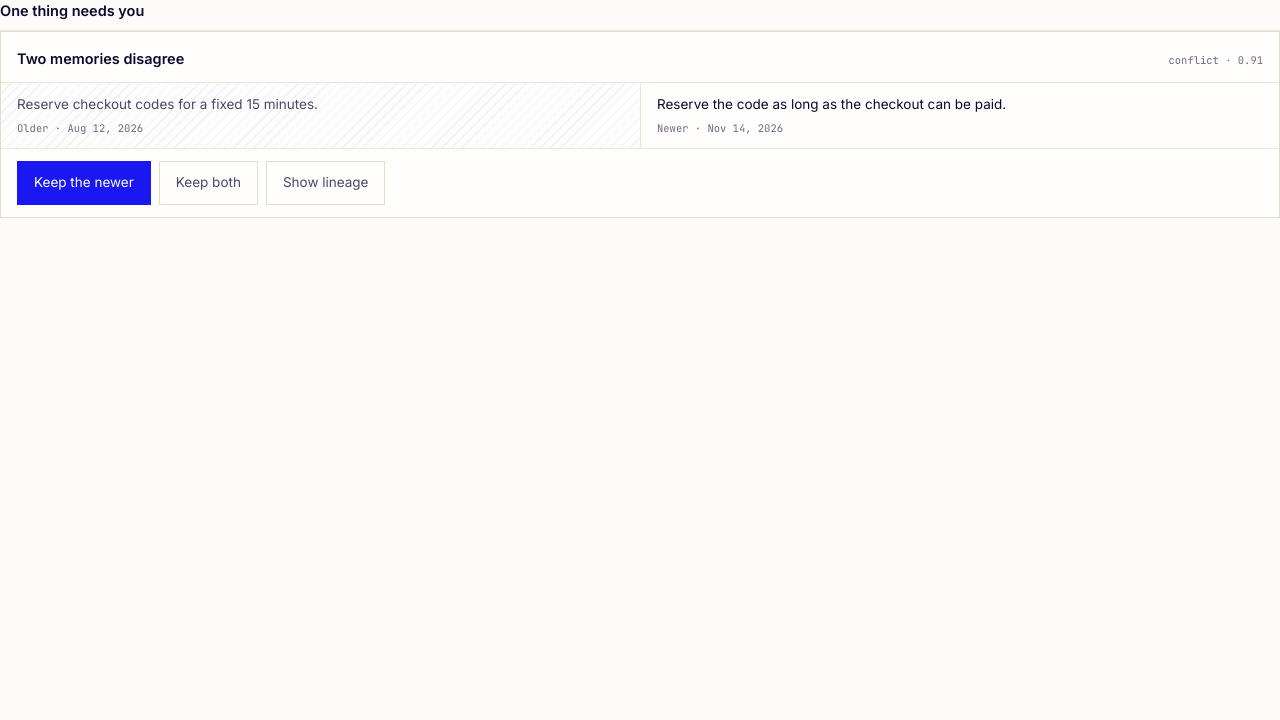
APP-044 a resolution posts nothing until it is confirmed, and the dialog says it cannot be undone
The width and height of the screenshot is (1280, 720).
Click the button "Keep the newer" at coordinates (84, 182), box [17,160,151,204]
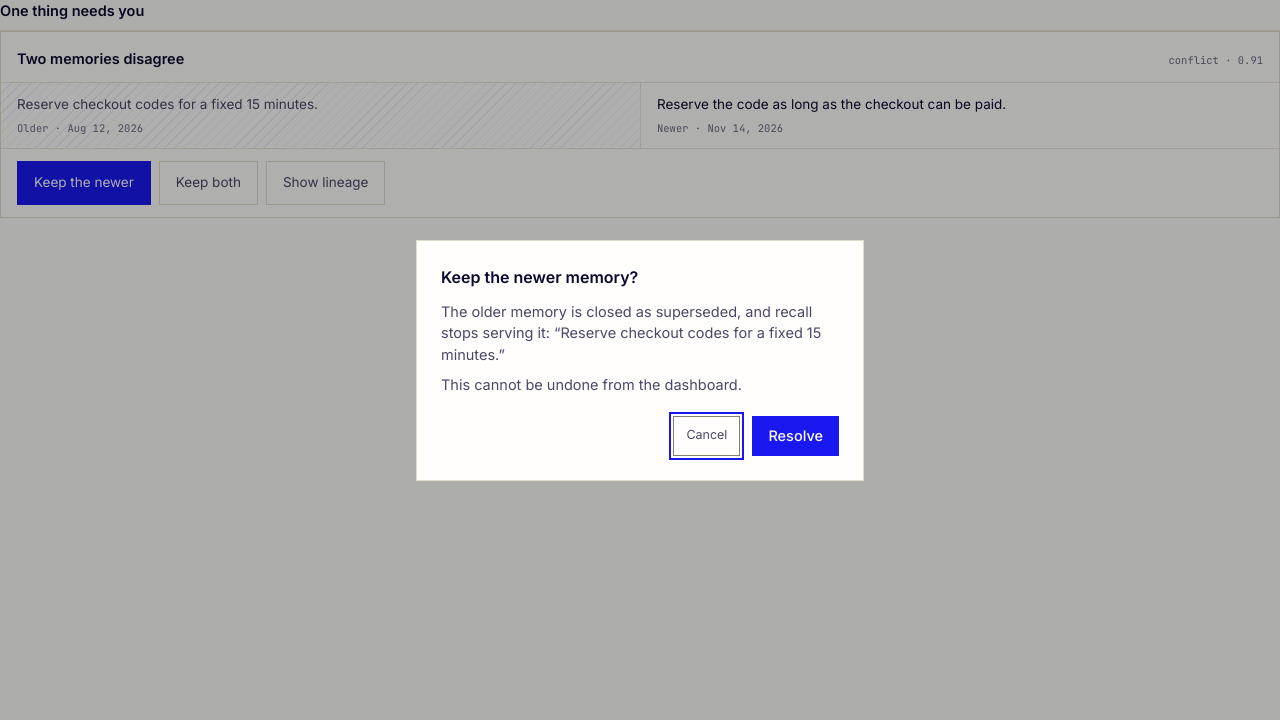
expect the dialog "Keep the newer memory?" shows "Reserve checkout codes for a fixed 15 minutes.": met, box [441,302,821,363]
expect the dialog "Keep the newer memory?" shows "cannot be undone": met, box [441,376,742,393]
Click the button "Cancel" at coordinates (707, 436), box [673,416,740,456]
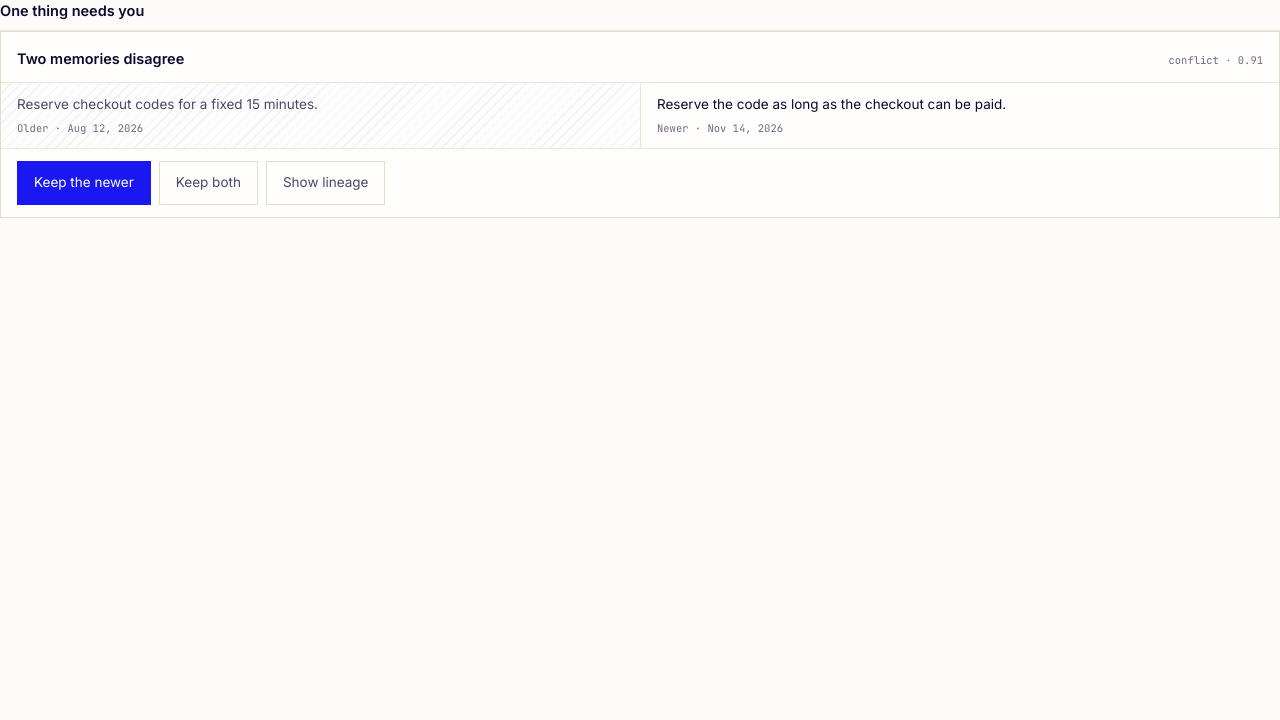
expect the dialog is gone: met
